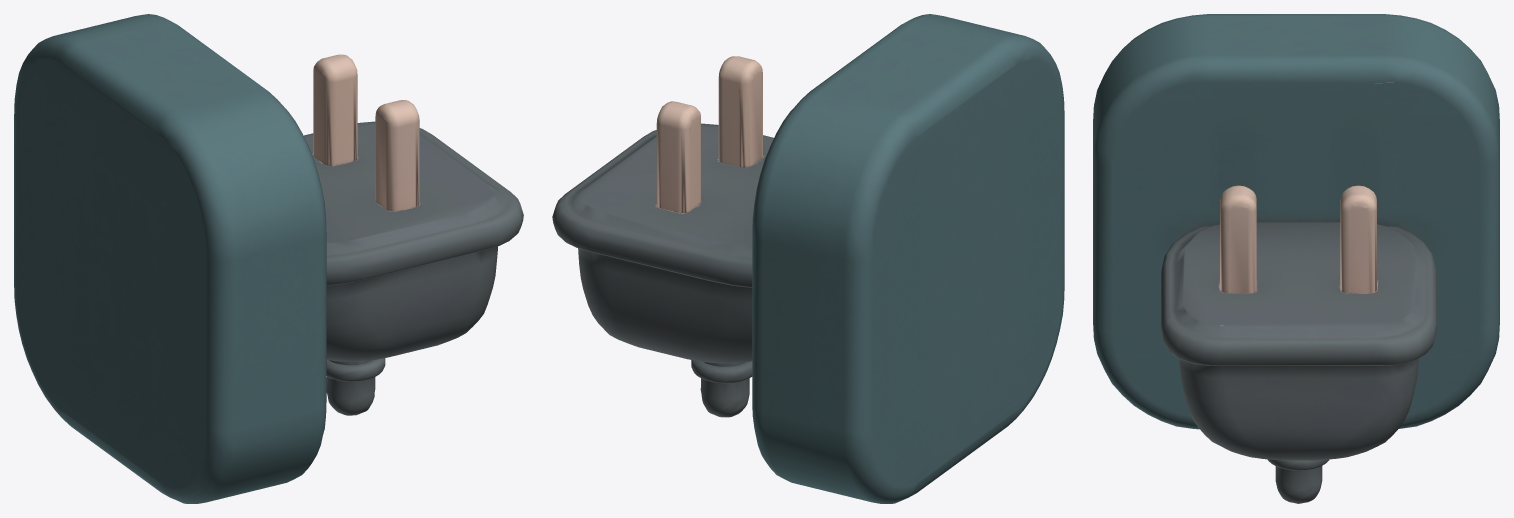
The model's file is icon-plug.glb.
3 views of the same model, side by side, from view 1: azimuth 30°, elevation 25°; view 2: azimuth 150°, elevation 25°; view 3: azimuth 270°, elevation 25° (orthographic). The views are drawn at different scales.
Visible parts, largest first — view 1: tripo_node_kodyurd-model-58____________________; view 2: tripo_node_kodyurd-model-58____________________; view 3: tripo_node_kodyurd-model-58____________________.
Part boxes in pixels (<box>): tripo_node_kodyurd-model-58____________________: <box>14,14,523,503</box>; tripo_node_kodyurd-model-58____________________: <box>552,14,1064,503</box>; tripo_node_kodyurd-model-58____________________: <box>1093,14,1499,503</box>.
Size of the model in its own units: 0.9707 by 0.998 by 0.9707.
1 material, 1 textured.
